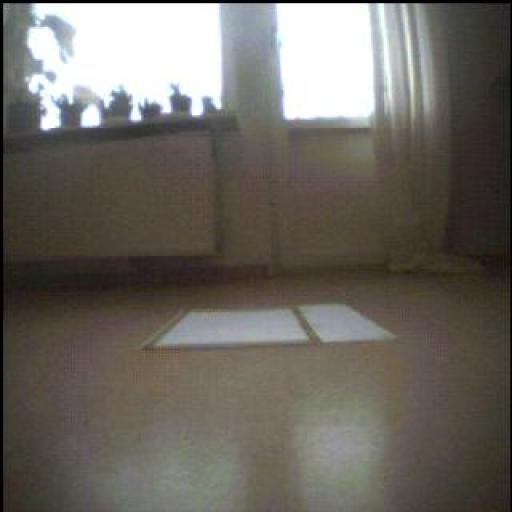Pad: (145, 296, 422, 349)
